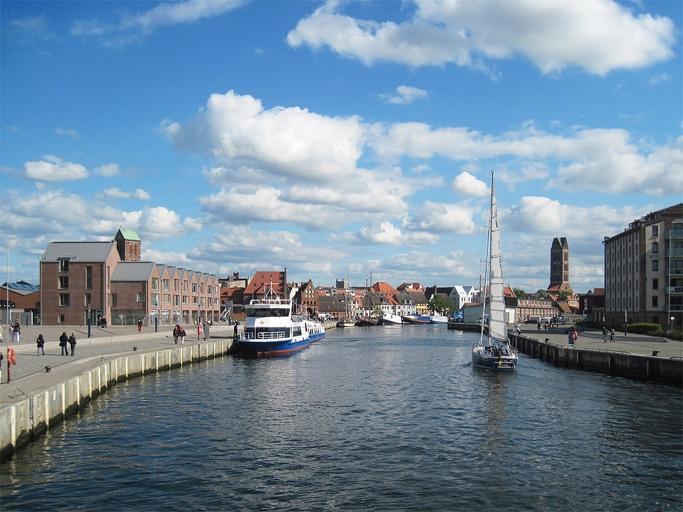non-vehicle: (606, 333, 615, 343), (602, 333, 606, 342)
